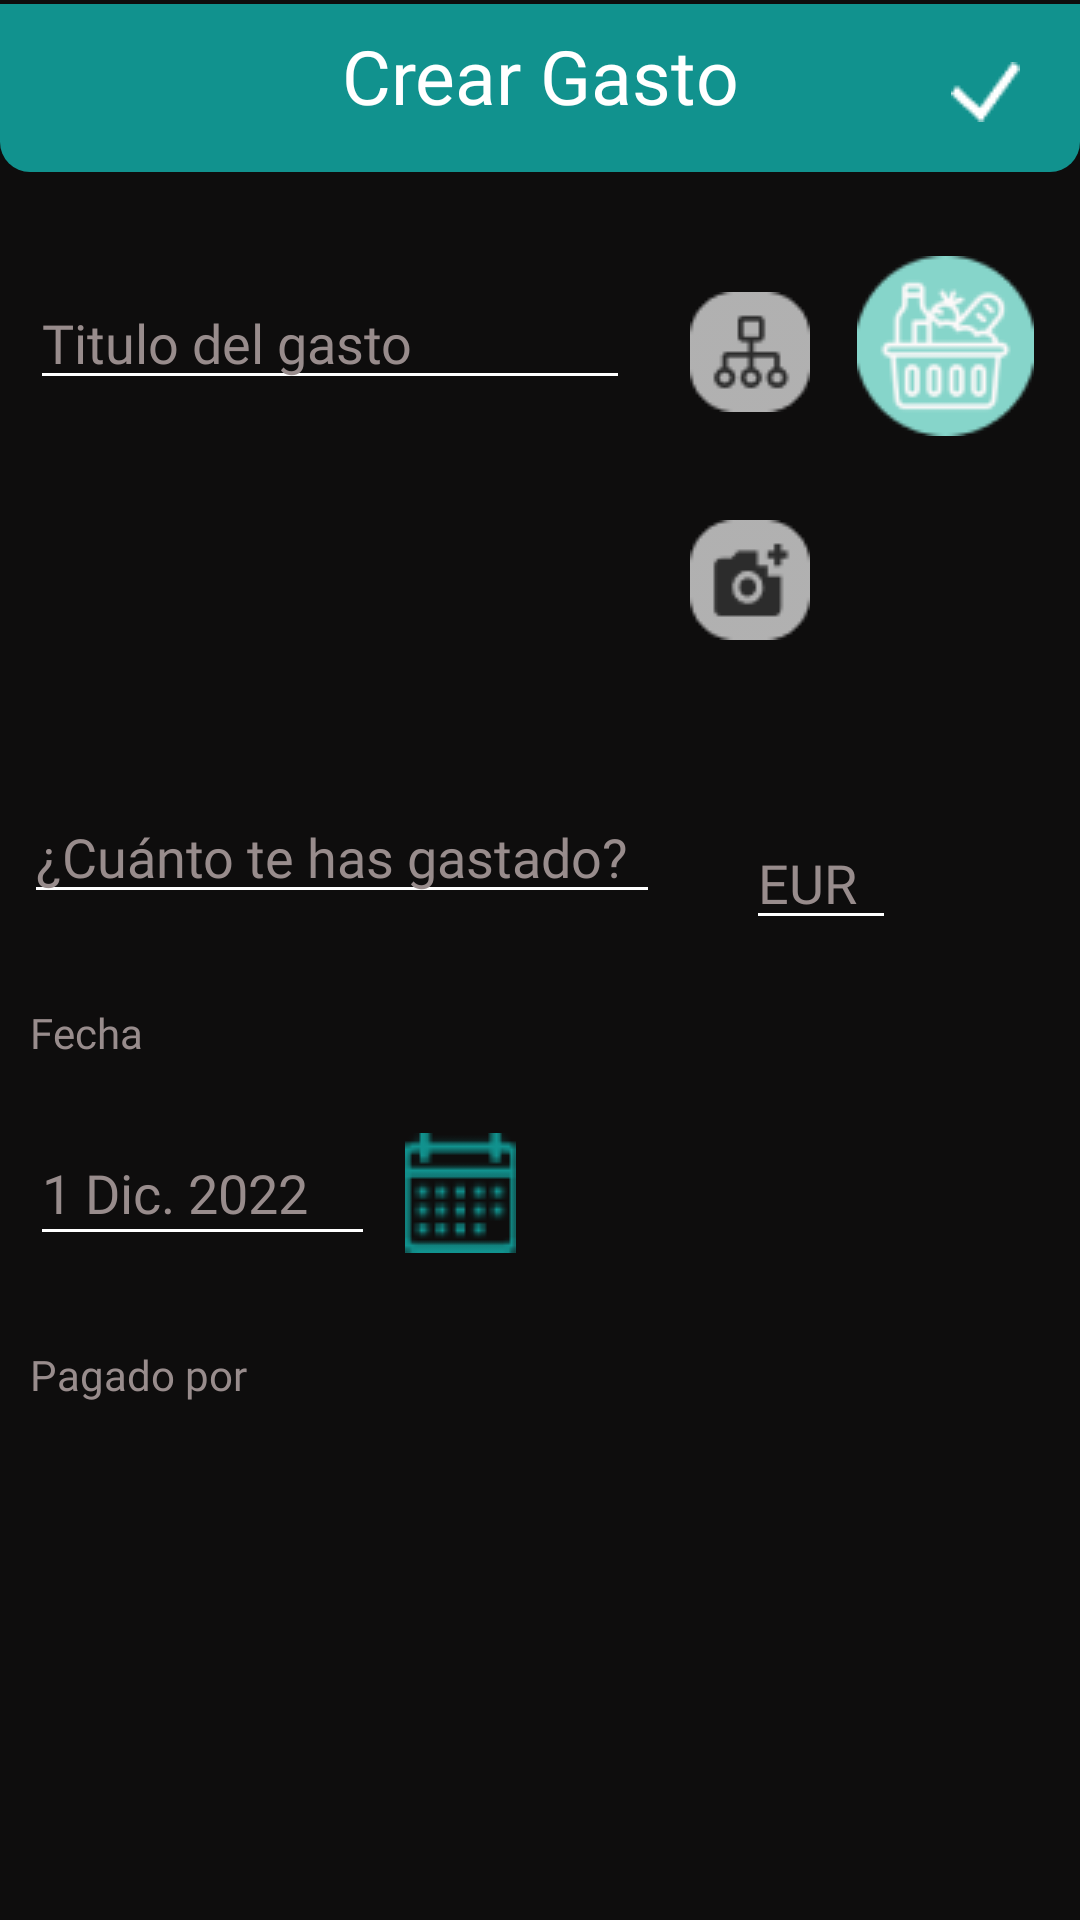

Screen size 1080 × 1920. Icon name, then its center in pixels as [x,y]:
calendar: [460,1193]
camara: [750,580]
categoria: [750,352]
confirmar: [985,92]
tienda comestibles: [945,346]
